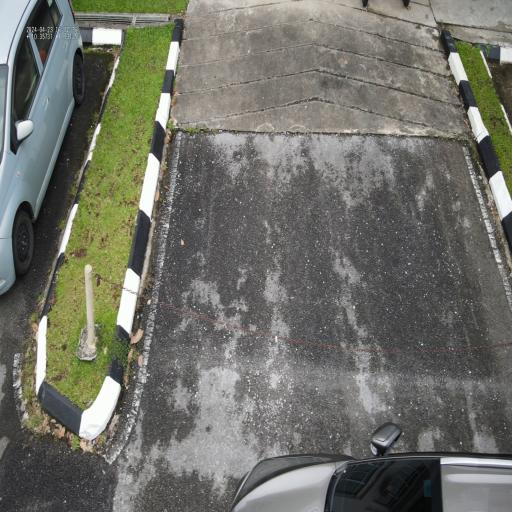Illegal: (226, 417, 512, 512)
